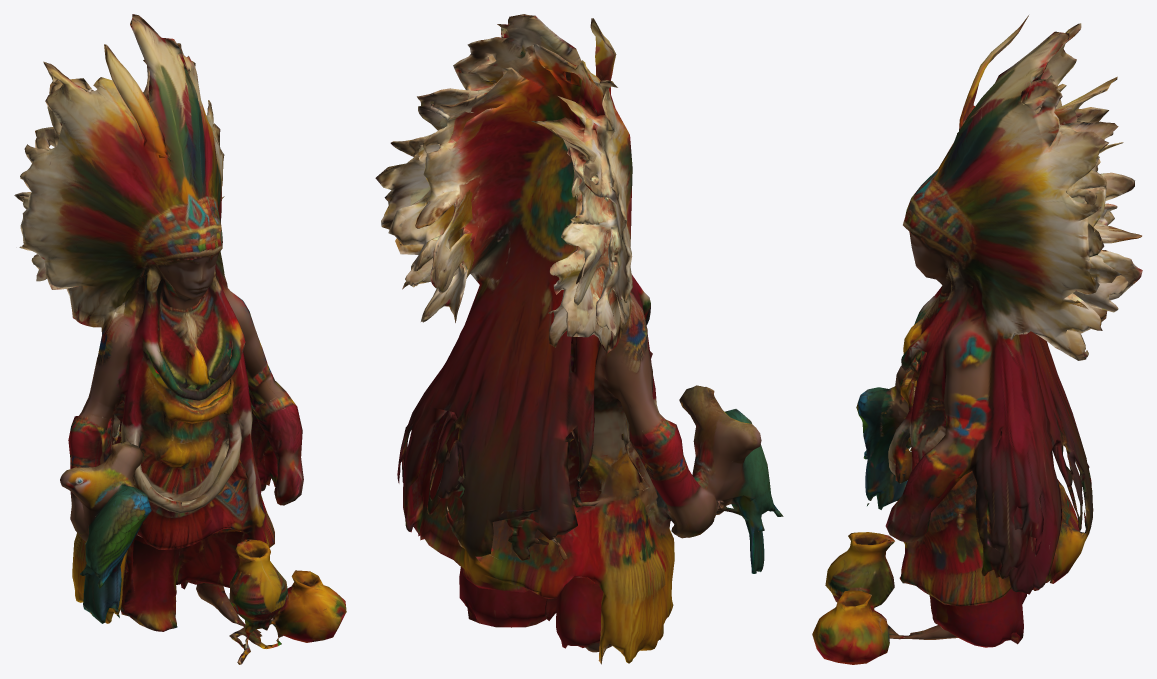
The model's file is crea_un_cuadro_con_il_1030040028_texture.fbx.
3 views of the same model, side by side, from view 1: azimuth 30°, elevation 25°; view 2: azimuth 150°, elevation 25°; view 3: azimuth 270°, elevation 25° (orthographic). The views are drawn at different scales.
Visible parts, largest first — view 1: Mesh1.0; view 2: Mesh1.0; view 3: Mesh1.0.
Part boxes in pixels (x1=…): Mesh1.0: x1=14, y1=14, x2=346, y2=664; Mesh1.0: x1=375, y1=14, x2=783, y2=664; Mesh1.0: x1=812, y1=15, x2=1142, y2=664.
Size of the model in its own units: 95.68 by 199 by 101.
Materials: 1 (1 with a texture image).
